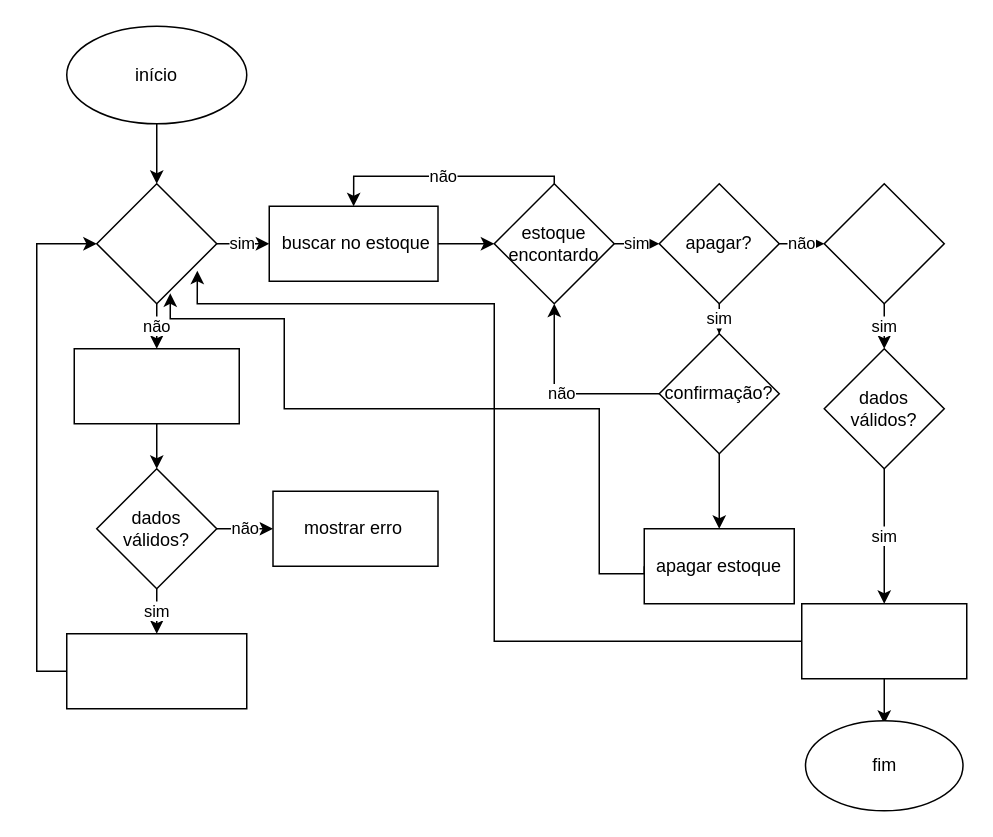
Some shapes in this 993 by 837 pixel diagram are drawn without their labels. The shapes that lost their labels are listed below. From the top down, each one's centre as x and y in pixels, then its label:
At (x=156, y=243): "estoque cadastrado".
At (x=883, y=243): "atualizar?".
At (x=156, y=385): "cadastrar estoque".
At (x=883, y=640): "cadastro de estoque atualizado".
At (x=156, y=670): "cadastro de estoque realizado".
